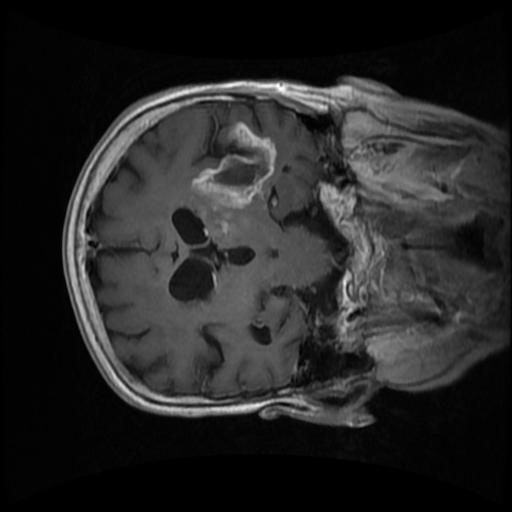glioma: (189, 122, 277, 238)
